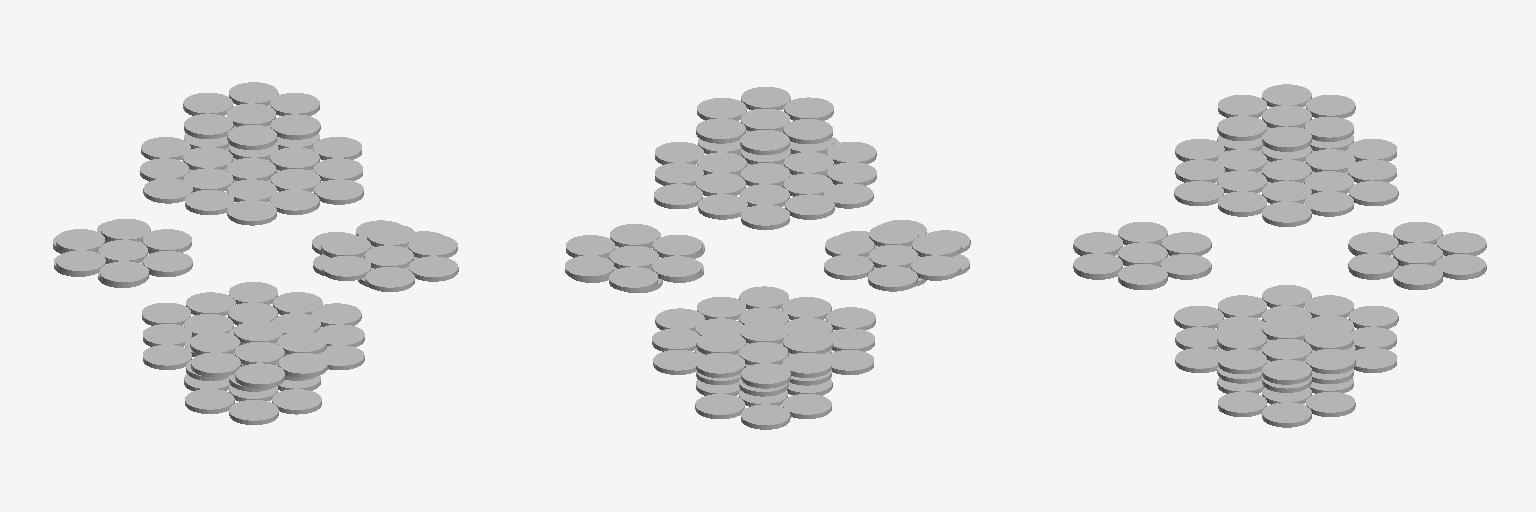
Rendered from playing.obj.
3 views of the same model, side by side, from view 1: azimuth 30°, elevation 25°; view 2: azimuth 150°, elevation 25°; view 3: azimuth 270°, elevation 25° (orthographic).
Parts seen in each view (by area): view 1: Cylinder.040_Cylinder.001, Cylinder.077_Cylinder.001, Cylinder.051_Cylinder.001, Cylinder.006_Cylinder.001, Cylinder.089_Cylinder.001, Cylinder.065_Cylinder.001, Cylinder.041_Cylinder.001, Cylinder.074_Cylinder.001, Cylinder.062_Cylinder.001, Cylinder.005_Cylinder.001, Cylinder.087_Cylinder.001, Cylinder.004_Cylinder.001 (+28 smaller); view 2: Cylinder.063_Cylinder.001, Cylinder.036_Cylinder.001, Cylinder.003_Cylinder.001, Cylinder.091_Cylinder.001, Cylinder.058_Cylinder.001, Cylinder.090_Cylinder.001, Cylinder.002_Cylinder.001, Cylinder.070_Cylinder.001, Cylinder.069_Cylinder.001, Cylinder.064_Cylinder.001, Cylinder.057_Cylinder.001, Cylinder.035_Cylinder.001 (+28 smaller); view 3: Cylinder.001, Cylinder.031_Cylinder.001, Cylinder.088_Cylinder.001, Cylinder.052_Cylinder.001, Cylinder.073_Cylinder.001, Cylinder.055_Cylinder.001, Cylinder.054_Cylinder.001, Cylinder.053_Cylinder.001, Cylinder.087_Cylinder.001, Cylinder.076_Cylinder.001, Cylinder.071_Cylinder.001, Cylinder.002_Cylinder.001 (+28 smaller).
Part boxes in pixels (bbox=[...]): Cylinder.040_Cylinder.001: bbox=[235, 363, 284, 388]; Cylinder.077_Cylinder.001: bbox=[227, 200, 276, 225]; Cylinder.051_Cylinder.001: bbox=[365, 267, 414, 291]; Cylinder.006_Cylinder.001: bbox=[229, 400, 278, 424]; Cylinder.089_Cylinder.001: bbox=[227, 125, 276, 149]; Cylinder.065_Cylinder.001: bbox=[100, 261, 148, 286]; Cylinder.041_Cylinder.001: bbox=[191, 352, 240, 377]; Cylinder.074_Cylinder.001: bbox=[314, 179, 363, 204]; Cylinder.062_Cylinder.001: bbox=[56, 250, 105, 275]; Cylinder.005_Cylinder.001: bbox=[185, 389, 234, 413]; Cylinder.087_Cylinder.001: bbox=[271, 114, 320, 139]; Cylinder.004_Cylinder.001: bbox=[272, 389, 321, 414]; Cylinder.063_Cylinder.001: bbox=[868, 266, 917, 291]; Cylinder.036_Cylinder.001: bbox=[741, 363, 790, 388]; Cylinder.003_Cylinder.001: bbox=[741, 404, 790, 429]; Cylinder.091_Cylinder.001: bbox=[740, 130, 789, 154]; Cylinder.058_Cylinder.001: bbox=[609, 267, 657, 291]; Cylinder.090_Cylinder.001: bbox=[696, 118, 745, 143]; Cylinder.002_Cylinder.001: bbox=[695, 394, 744, 418]; Cylinder.070_Cylinder.001: bbox=[741, 205, 789, 229]; Cylinder.069_Cylinder.001: bbox=[785, 194, 834, 219]; Cylinder.064_Cylinder.001: bbox=[824, 255, 873, 279]; Cylinder.057_Cylinder.001: bbox=[565, 255, 613, 280]; Cylinder.035_Cylinder.001: bbox=[696, 353, 744, 377]; Cylinder.001: bbox=[1262, 402, 1311, 427]; Cylinder.031_Cylinder.001: bbox=[1262, 359, 1311, 384]; Cylinder.088_Cylinder.001: bbox=[1262, 126, 1311, 151]; Cylinder.052_Cylinder.001: bbox=[1118, 264, 1167, 288]; Cylinder.073_Cylinder.001: bbox=[1262, 202, 1311, 226]; Cylinder.055_Cylinder.001: bbox=[1393, 264, 1442, 288]; Cylinder.054_Cylinder.001: bbox=[1348, 253, 1397, 278]; Cylinder.053_Cylinder.001: bbox=[1073, 253, 1122, 278]; Cylinder.087_Cylinder.001: bbox=[1217, 116, 1266, 140]; Cylinder.076_Cylinder.001: bbox=[1218, 191, 1266, 216]; Cylinder.071_Cylinder.001: bbox=[1349, 181, 1398, 205]; Cylinder.002_Cylinder.001: bbox=[1306, 392, 1355, 416].
Bounding box in the file's own units: 17.93 × 12.4 × 16.62.